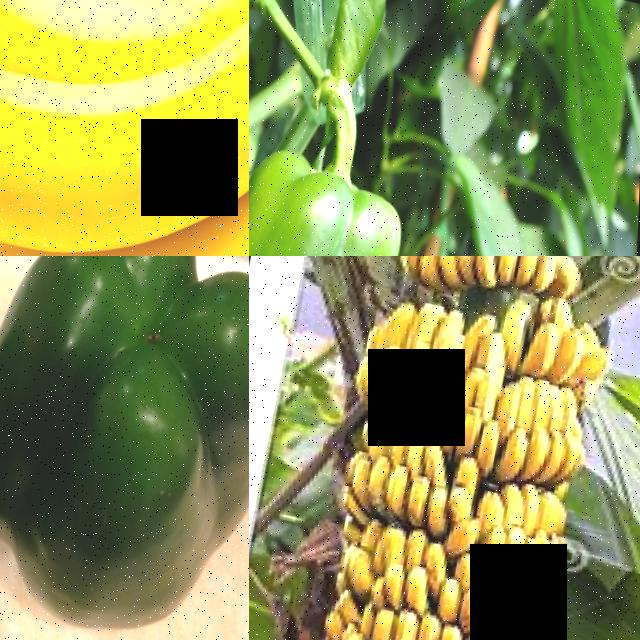banana: (332, 256, 640, 475), (0, 0, 249, 256), (325, 421, 508, 541), (476, 463, 608, 585), (320, 514, 455, 617), (305, 590, 546, 640), (437, 555, 569, 640), (372, 256, 603, 297)
bell pepper: (0, 256, 249, 614), (249, 150, 427, 256)
